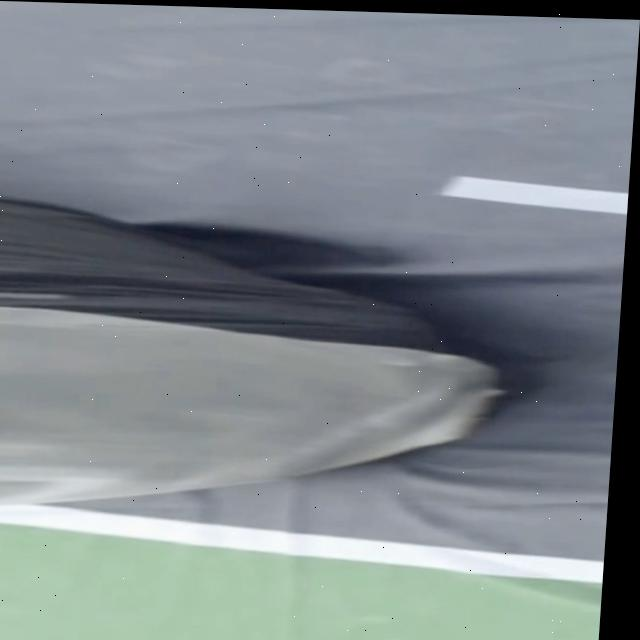center: (440, 176, 628, 213)
right: (0, 504, 604, 581)
